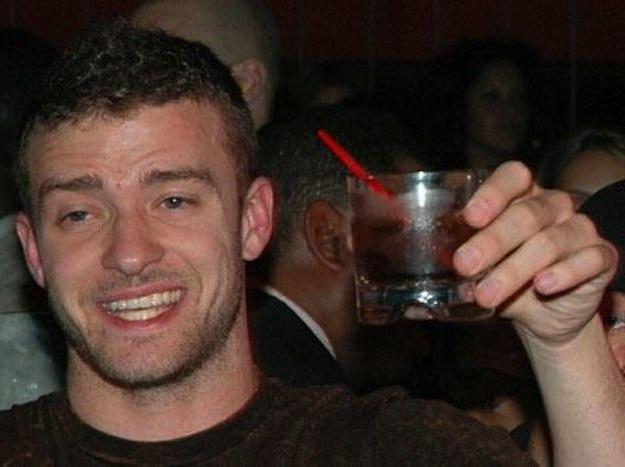Drunk: (35, 124, 236, 383)
